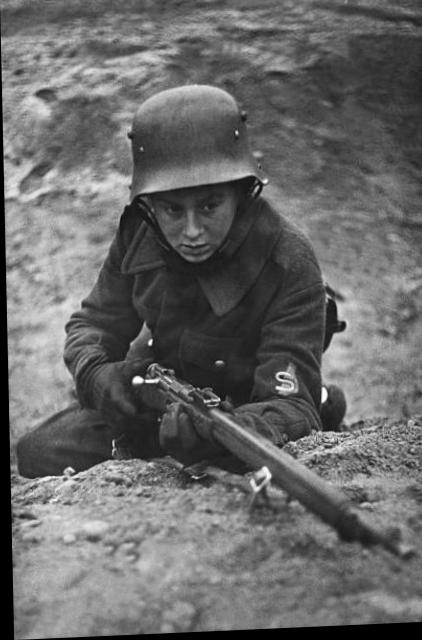other: (18, 81, 329, 465)
